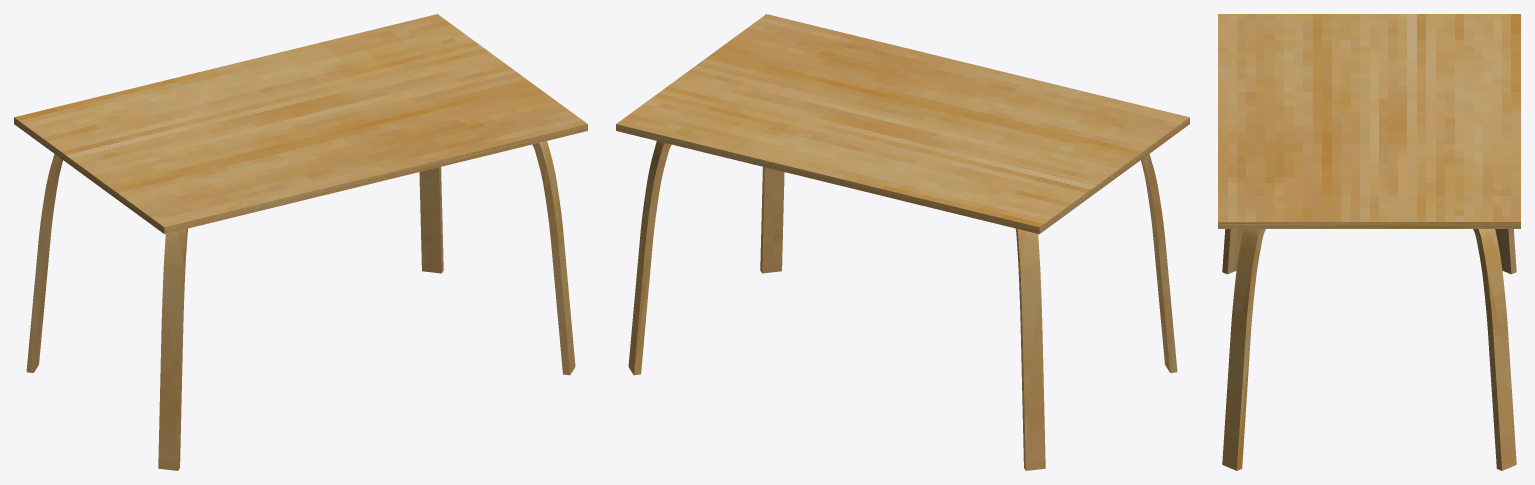
File: table2.gltf
3 views of the same model, side by side, from view 1: azimuth 30°, elevation 25°; view 2: azimuth 150°, elevation 25°; view 3: azimuth 270°, elevation 25° (orthographic).
Parts seen in each view (by area): view 1: 3_primitive, 1_primitive, 2_primitive; view 2: 3_primitive, 1_primitive, 2_primitive; view 3: 3_primitive, 1_primitive, 2_primitive.
Boxes of the visible parts, x1=… form: 3_primitive: x1=14, y1=14, x2=587, y2=234; 1_primitive: x1=33, y1=141, x2=575, y2=470; 2_primitive: x1=26, y1=143, x2=569, y2=470; 3_primitive: x1=616, y1=14, x2=1189, y2=234; 1_primitive: x1=628, y1=141, x2=1170, y2=470; 2_primitive: x1=634, y1=143, x2=1177, y2=470; 3_primitive: x1=1218, y1=14, x2=1520, y2=228; 1_primitive: x1=1222, y1=229, x2=1516, y2=470; 2_primitive: x1=1222, y1=229, x2=1516, y2=470.
Bounding box in the file's own units: 1.3 × 0.73 × 0.8.
3 materials, 3 textured.
